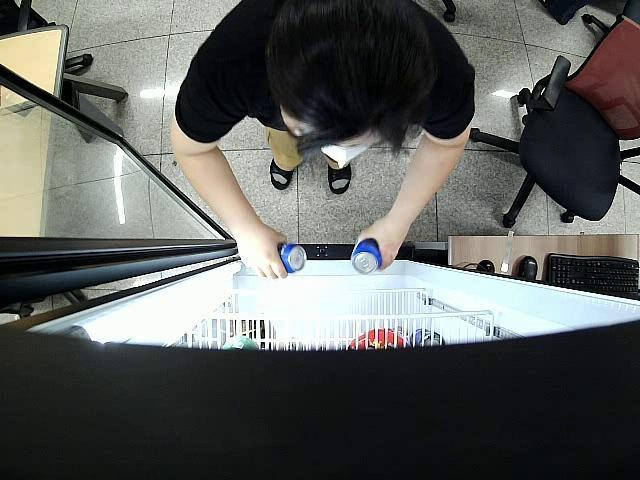13_pocariSweat: (273, 242, 308, 274), (352, 242, 381, 275)
